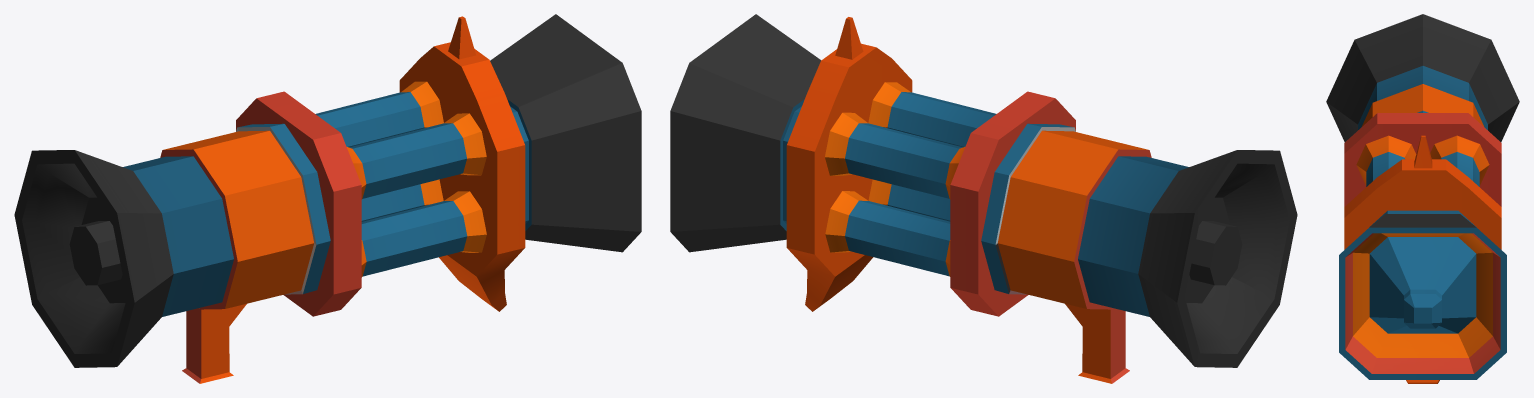
The model's file is LAZER GUN (2).fbx.
3 renders of one model, left to right at view 1: azimuth 30°, elevation 25°; view 2: azimuth 150°, elevation 25°; view 3: azimuth 270°, elevation 25°, orthographic. The views are drawn at different scales.
Visible parts, largest first — view 1: Cylinder.011; view 2: Cylinder.011; view 3: Cylinder.011.
Boxes of the visible parts, x1,y1,x2,y2 form: Cylinder.011: (14, 14, 641, 383); Cylinder.011: (670, 14, 1297, 383); Cylinder.011: (1326, 14, 1519, 383).
Size of the model in its own units: 79.43 by 40.97 by 30.38.
1 material, 1 textured.
